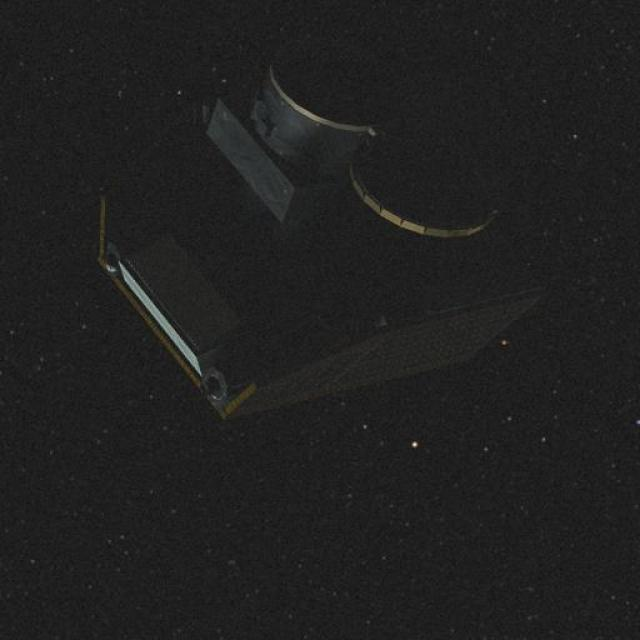cheops: (74, 55, 546, 404)
